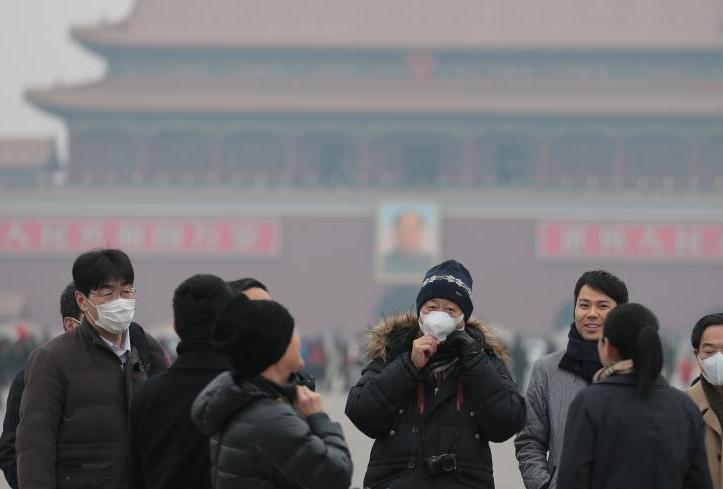person: (343, 259, 527, 489), (14, 247, 175, 489), (513, 270, 668, 489), (127, 273, 281, 489), (190, 293, 354, 489), (555, 303, 714, 488), (1, 279, 134, 489), (196, 277, 290, 489), (665, 312, 723, 489)
